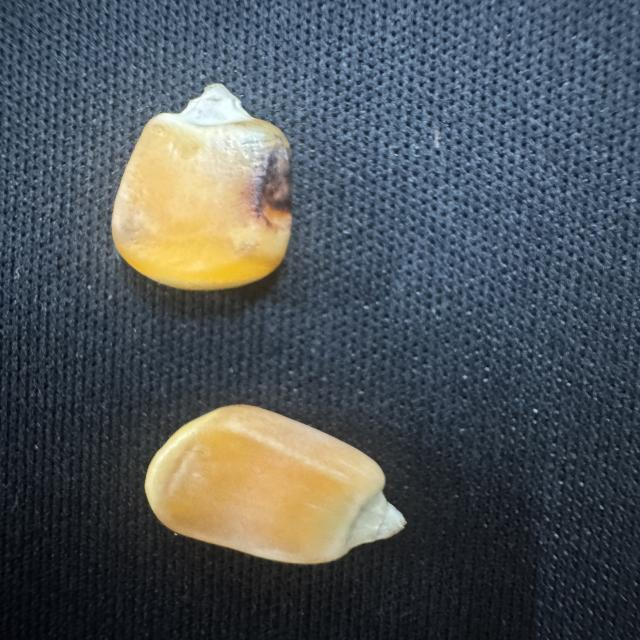Bad-Seed: (98, 78, 314, 304)
Good-Seed: (134, 392, 411, 583)
